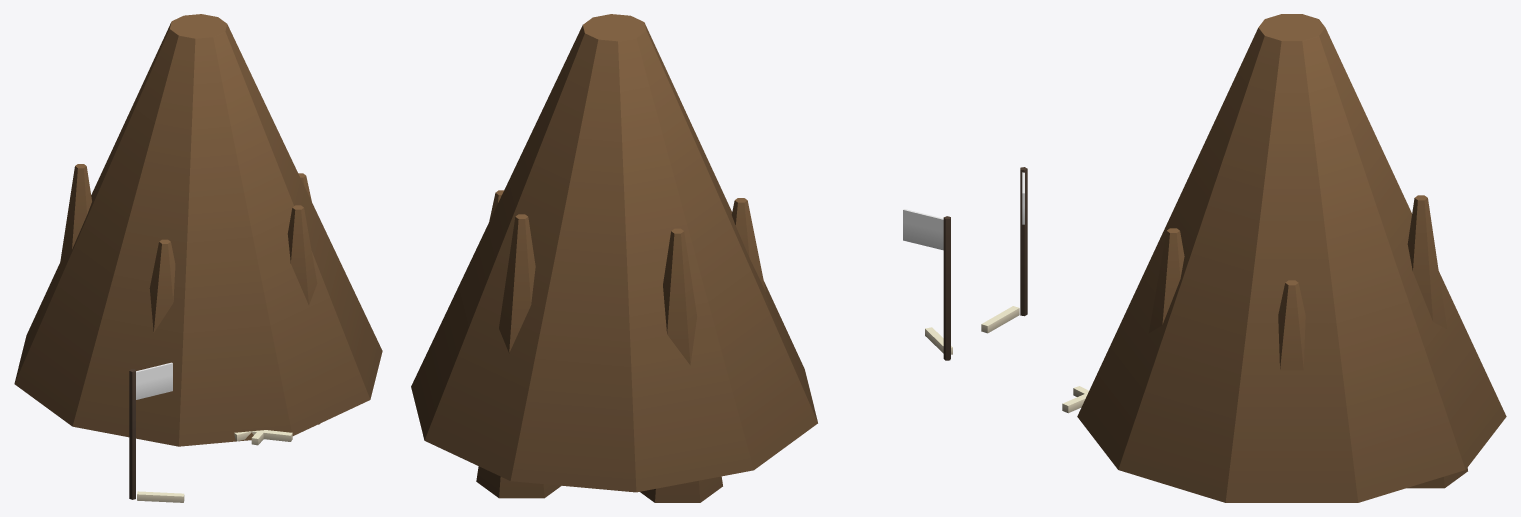
Rendered from TERMITE.glb.
3 renders of one model, left to right at view 1: azimuth 30°, elevation 25°; view 2: azimuth 150°, elevation 25°; view 3: azimuth 270°, elevation 25°, orthographic. The views are drawn at different scales.
Parts seen in each view (by area): view 1: Body, Flag; view 2: Body, Flag; view 3: Body.
Part boxes in pixels (bbox=[...]): Body: bbox=[14, 14, 382, 502]; Flag: bbox=[136, 362, 172, 399]; Body: bbox=[411, 14, 952, 502]; Flag: bbox=[903, 209, 943, 250]; Body: bbox=[981, 14, 1506, 502].
Size of the model in its own units: 3.35 by 3.52 by 3.91.
Materials: 1 (1 with a texture image).
